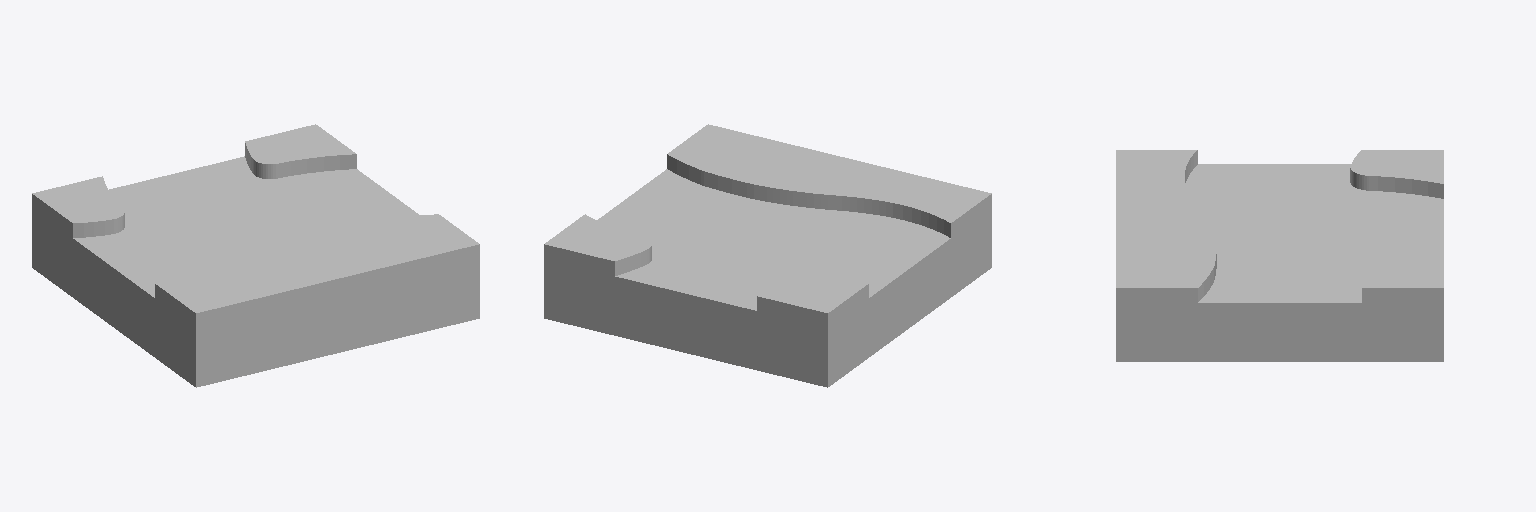
The model's file is ground_dirtRiverT.obj.
3 renders of one model, left to right at view 1: azimuth 30°, elevation 25°; view 2: azimuth 150°, elevation 25°; view 3: azimuth 270°, elevation 25°, orthographic.
Parts seen in each view (by area): view 1: ground_dirtRiverT; view 2: ground_dirtRiverT; view 3: ground_dirtRiverT.
Part boxes in pixels (x1,y1,x2,y2): ground_dirtRiverT: (32,124,479,387); ground_dirtRiverT: (544,124,991,387); ground_dirtRiverT: (1116,150,1443,361).
Size of the model in its own units: 10 by 2.5 by 10.